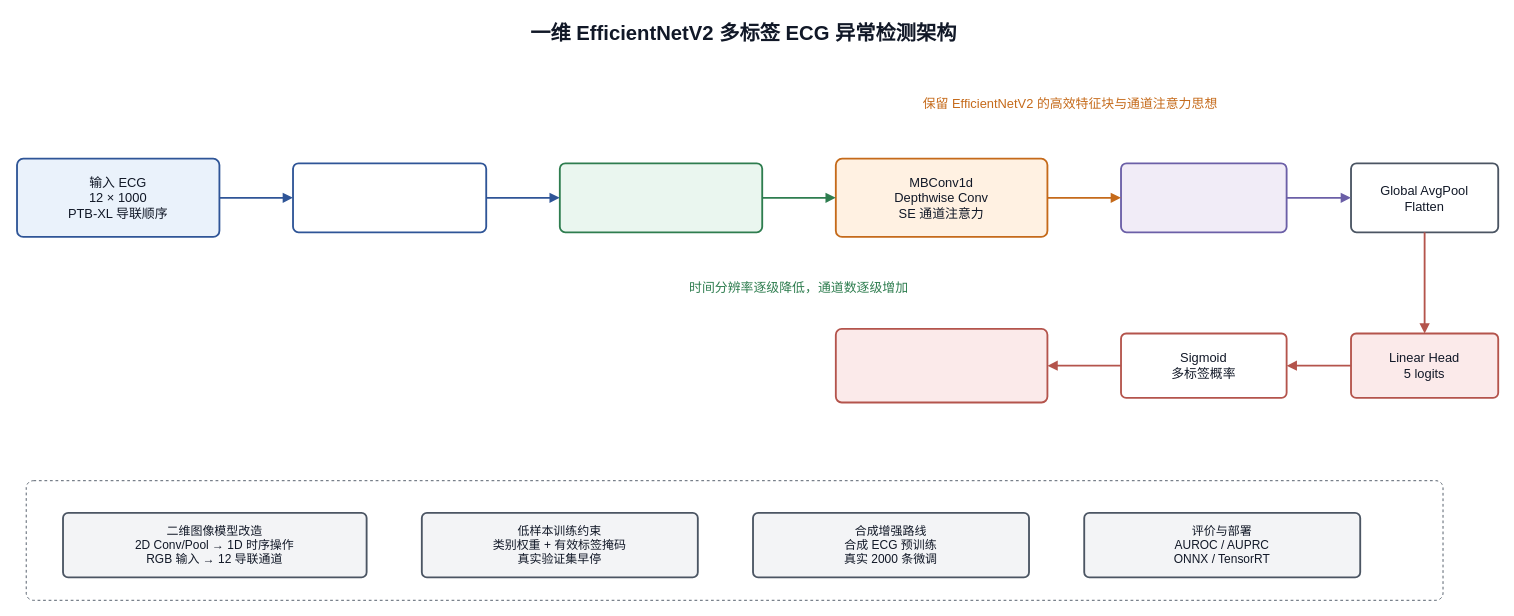
The diagram is 1514 pixels wide and 616 high, and some of its shapes have lost their labels. The box of each missing label's shape, as (x1, y1, x2, y2) in pixels:
1 × 1 Conv 特征整合: (1120, 162, 1287, 233)
Fused-MBConv1d 浅层形态特征: (558, 162, 763, 233)
Initial Conv1d BatchNorm LeakyReLU: (292, 162, 487, 233)
模型改造要点: (25, 480, 1443, 600)
输出类别 CD / HYP / MI NORM / STTC: (834, 328, 1048, 403)
